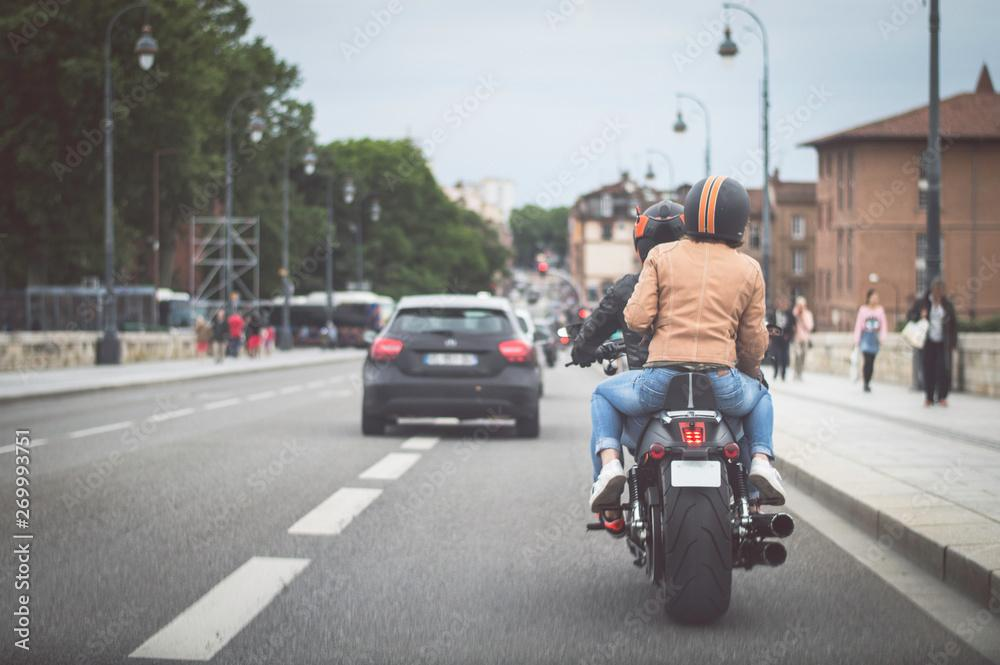helmet: (632, 199, 703, 273), (683, 174, 751, 245)
